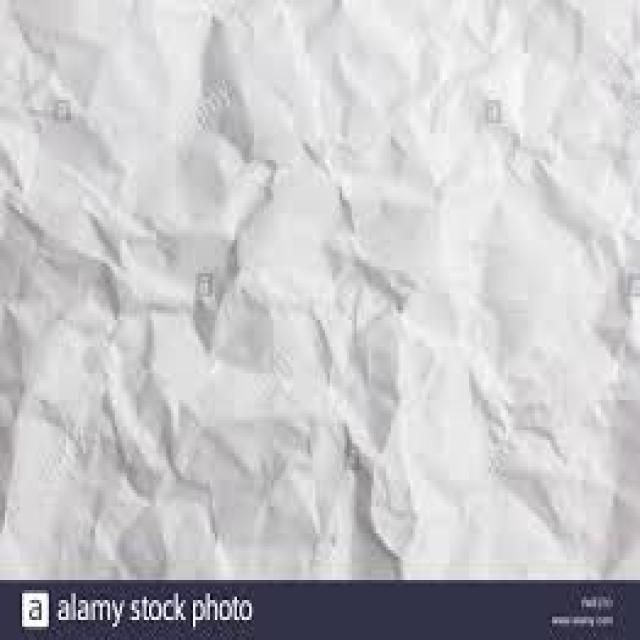paper: (0, 4, 638, 584), (0, 0, 638, 577)
